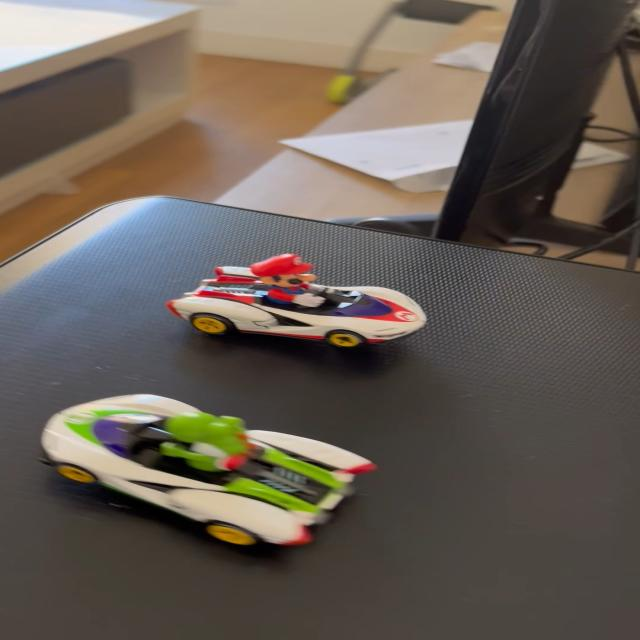mario: (164, 247, 440, 349)
yoshi: (22, 388, 392, 558)
